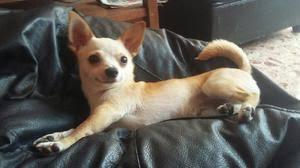chihuahua: (31, 4, 273, 146)
